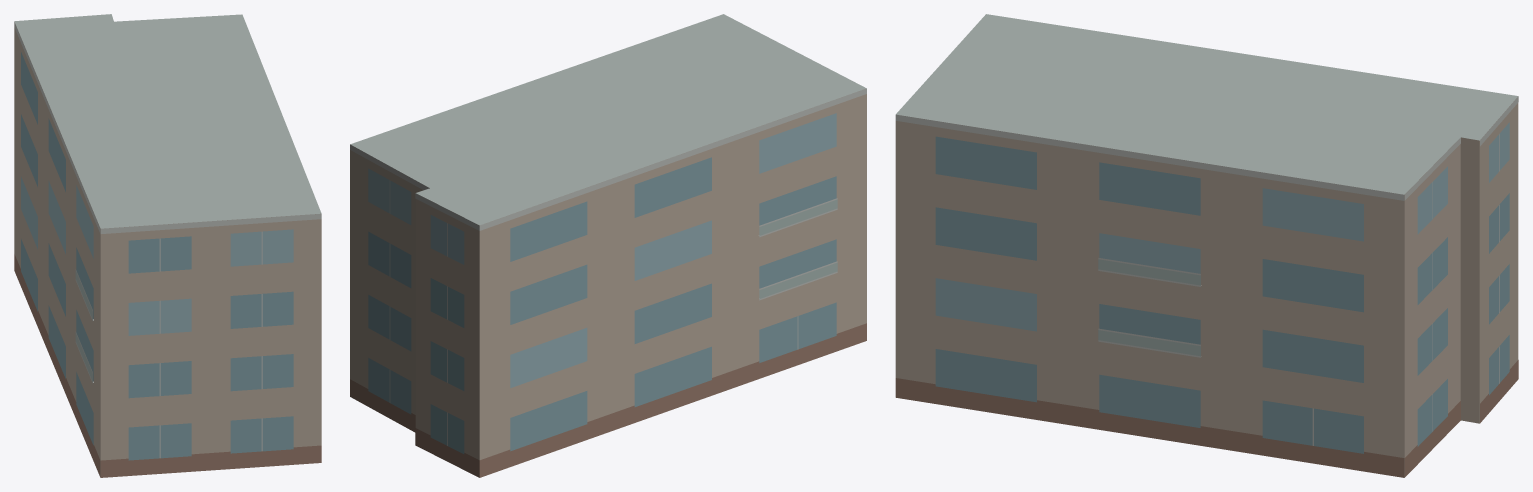
The model's file is survey-upis-32820649.glb.
3 renders of one model, left to right at view 1: azimuth 30°, elevation 25°; view 2: azimuth 150°, elevation 25°; view 3: azimuth 270°, elevation 25°, orthographic. The views are drawn at different scales.
Parts seen in each view (by area): view 1: survey-upis-32820649.tmp; view 2: survey-upis-32820649.tmp; view 3: survey-upis-32820649.tmp.
Boxes of the visible parts, box(x1,y1,x2,y2) form: survey-upis-32820649.tmp: box(14, 14, 321, 477); survey-upis-32820649.tmp: box(350, 14, 866, 477); survey-upis-32820649.tmp: box(895, 14, 1518, 477).
Bounding box in the file's own units: 15.21 × 11.1 × 22.14.
